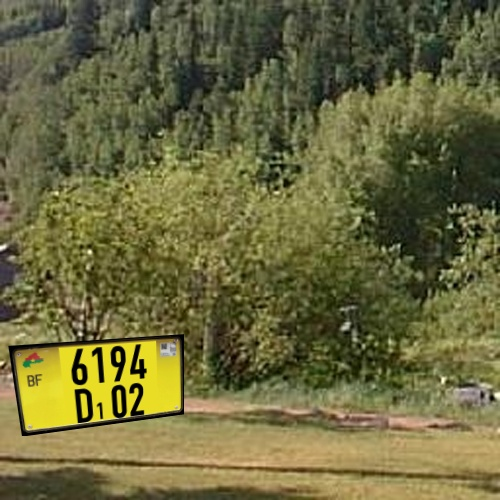plate: (6, 331, 203, 444)
